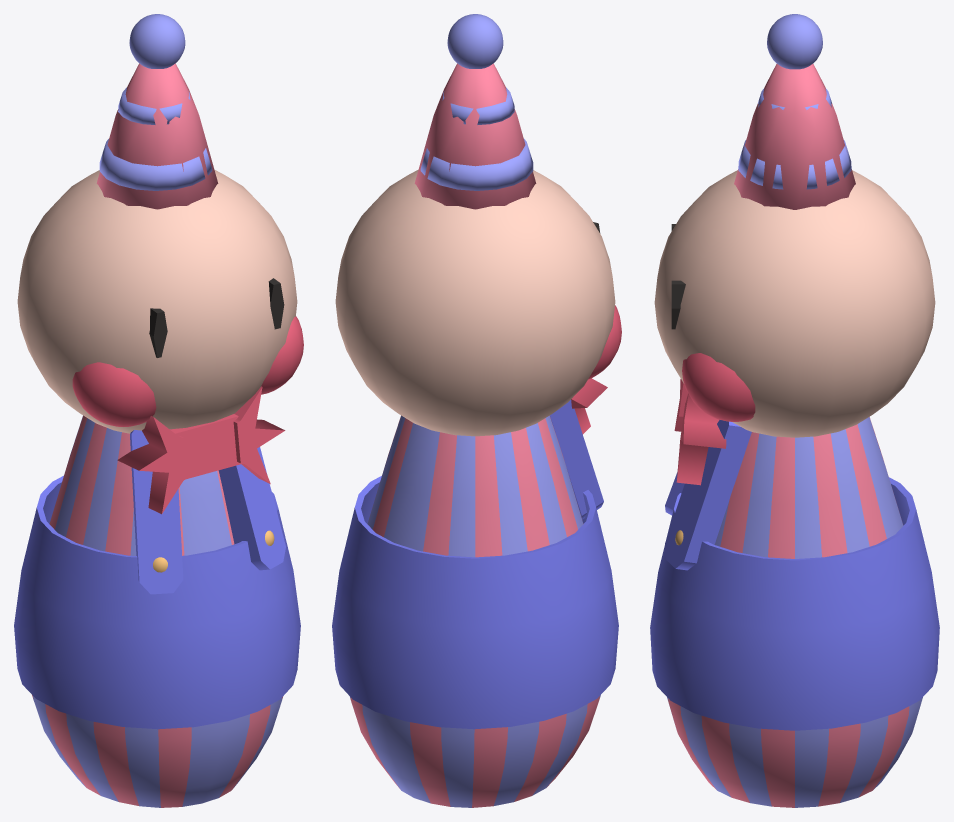
The model's file is SM_character_cottoncandy_02.fbx.
3 renders of one model, left to right at view 1: azimuth 30°, elevation 25°; view 2: azimuth 150°, elevation 25°; view 3: azimuth 270°, elevation 25°, orthographic.
Visible parts, largest first — view 1: pSphere2, pCylinder15, pCylinder7, pCube11, pCone1, candy_bag_sq02, pSphere12, pCylinder13, pSphere14, pSphere13, pCylinder14, pCylinder8 (+1 smaller); view 2: pSphere2, pCylinder15, pCylinder7, pCone1, pCylinder13, pCube11, pSphere14, pCylinder14, candy_bag_sq02, pSphere12; view 3: pSphere2, pCylinder15, pCylinder7, pCone1, pCube11, pSphere13, candy_bag_sq02, pSphere14, pCylinder13.
Part boxes in pixels (x1,y1,x2,y2): pSphere2: (17,169,297,433); pCylinder15: (14,475,300,729); pCylinder7: (32,415,282,807); pCube11: (130,429,285,594); pCone1: (96,63,218,209); candy_bag_sq02: (117,386,285,514); pSphere12: (72,362,156,426); pCylinder13: (99,139,212,190); pSphere14: (129,14,185,68); pSphere13: (261,316,303,394); pCylinder14: (118,87,190,124); pCylinder8: (149,308,167,357); pSphere2: (335,170,615,436); pCylinder15: (332,476,618,729); pCylinder7: (350,415,600,807); pCone1: (414,63,536,209); pCylinder13: (420,138,533,190); pCube11: (550,400,603,519); pSphere14: (447,14,503,68); pCylinder14: (442,87,514,124); candy_bag_sq02: (571,378,607,434); pSphere12: (588,305,621,379); pSphere2: (654,170,935,437); pCylinder15: (650,477,939,730); pCylinder7: (667,417,922,807); pCone1: (734,64,855,209); pCube11: (665,420,751,570); pSphere13: (682,353,755,421); candy_bag_sq02: (674,379,726,485); pSphere14: (767,14,822,69); pCylinder13: (738,140,851,189).
Bounding box in the file's own units: 23.53 × 68.03 × 23.61.
